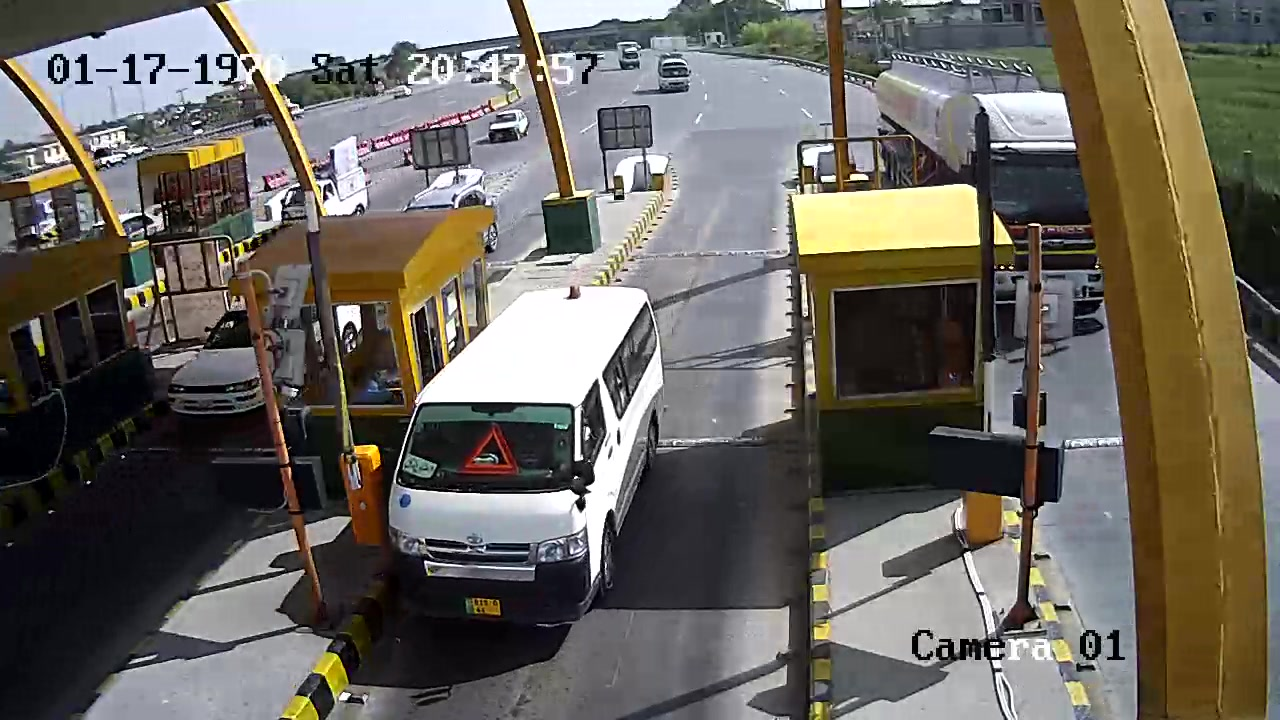F2: (383, 284, 665, 624)
